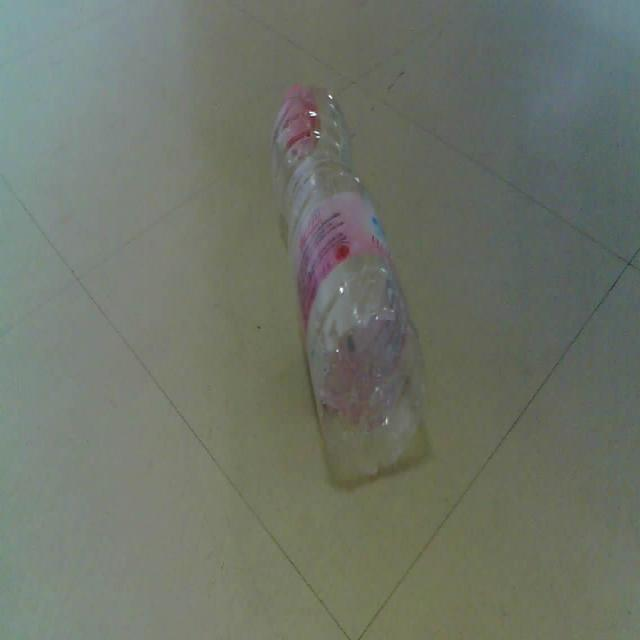empty: (272, 85, 423, 480)
